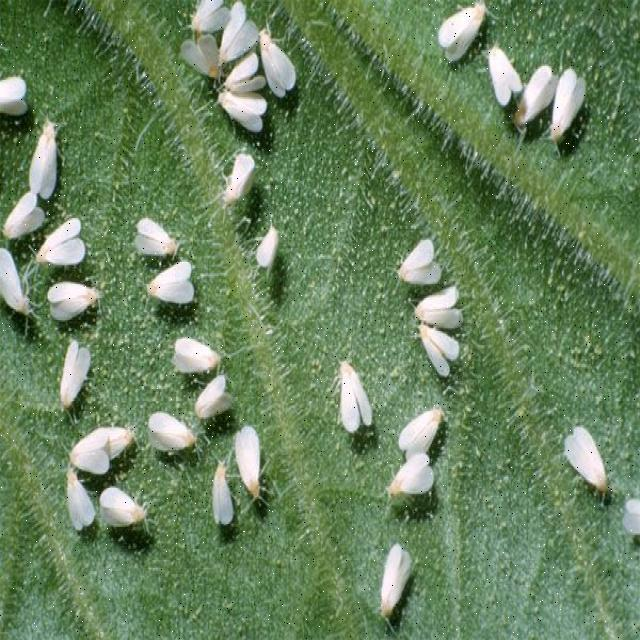Whiteflies: (545, 404, 611, 498), (379, 441, 445, 531), (24, 101, 80, 199), (46, 331, 99, 427), (1, 249, 54, 343), (25, 210, 109, 267), (405, 272, 477, 338), (62, 402, 121, 482), (39, 261, 117, 321), (366, 531, 421, 616), (386, 398, 458, 459), (329, 348, 379, 435), (215, 87, 284, 150), (257, 24, 312, 103), (143, 406, 200, 482), (544, 73, 597, 153), (435, 4, 498, 69), (162, 332, 225, 393), (131, 193, 184, 265), (514, 61, 562, 140), (388, 222, 451, 282), (405, 317, 465, 380), (49, 471, 98, 547), (141, 267, 207, 322), (218, 2, 266, 73), (104, 487, 155, 553), (486, 38, 527, 120), (240, 412, 272, 513), (182, 379, 237, 432), (176, 36, 231, 88), (595, 472, 640, 535), (213, 57, 272, 104), (248, 222, 293, 283), (210, 443, 240, 531), (221, 144, 269, 199), (1, 77, 51, 129), (4, 195, 50, 242), (185, 6, 223, 54)
